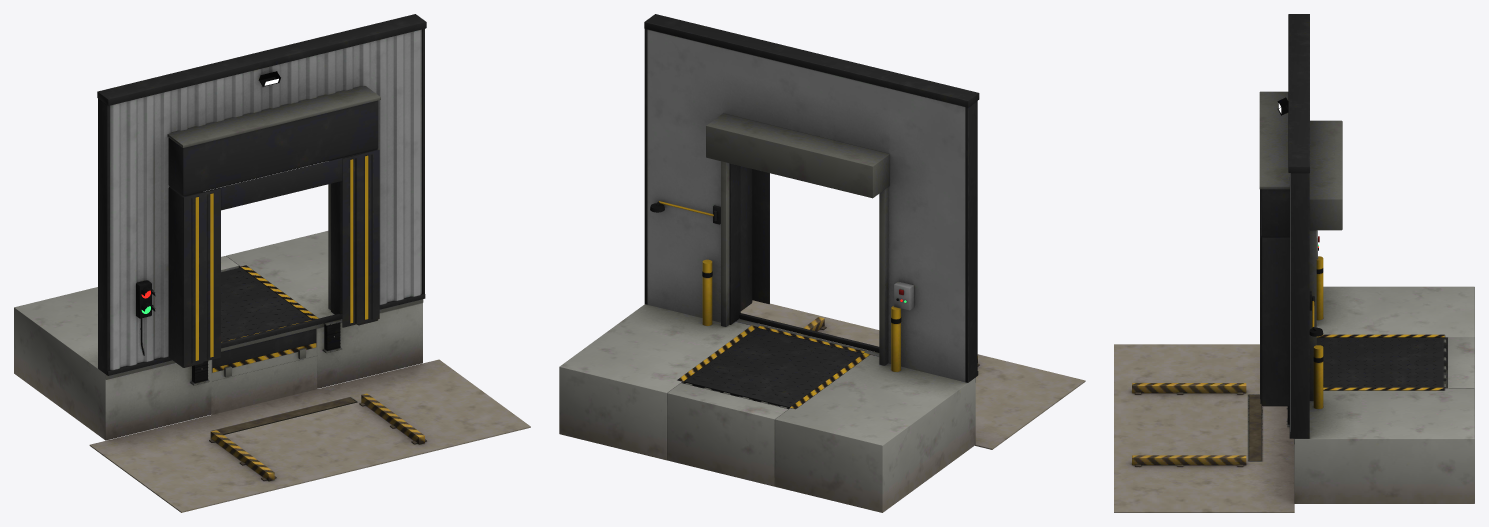
File: loading-dock-v2-lod0.glb
3 views of the same model, side by side, from view 1: azimuth 30°, elevation 25°; view 2: azimuth 150°, elevation 25°; view 3: azimuth 270°, elevation 25° (orthographic). The views are drawn at different scales.
Visible parts, largest first — view 1: body, leveller_plate_mesh, leveller_lip_mesh; view 2: body, leveller_plate_mesh; view 3: body, leveller_plate_mesh.
Part boxes in pixels (left/top/right/bottom): body: left=14, top=14, right=530, bottom=512; leveller_plate_mesh: left=221, top=267, right=311, bottom=342; leveller_lip_mesh: left=212, top=329, right=316, bottom=372; body: left=559, top=14, right=1085, bottom=512; leveller_plate_mesh: left=684, top=326, right=864, bottom=408; body: left=1114, top=14, right=1474, bottom=512; leveller_plate_mesh: left=1316, top=338, right=1446, bottom=387.
Bounding box in the file's own units: 6.6 × 6.22 × 6.
5 materials, 1 textured.
